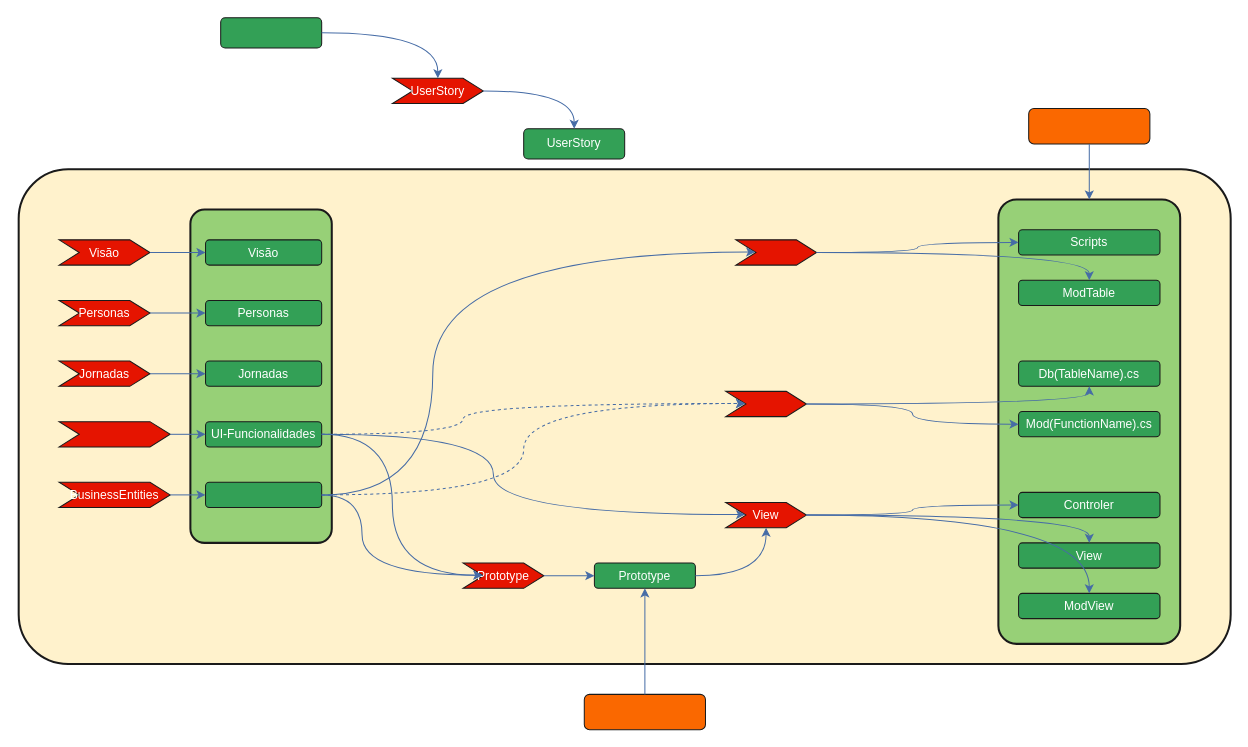
Image size: 1248x747. Some labels were removed from this diagram. Here are the shapes that lost their labels. From the top down, the centre of each, then its label:
the point at 271,32: Nova Demanda
the point at 1089,126: Platform
the point at 776,252: Database
the point at 765,403: API
the point at 114,434: Funcionalidades
the point at 263,494: Business Entities
the point at 644,711: DesignSystem
